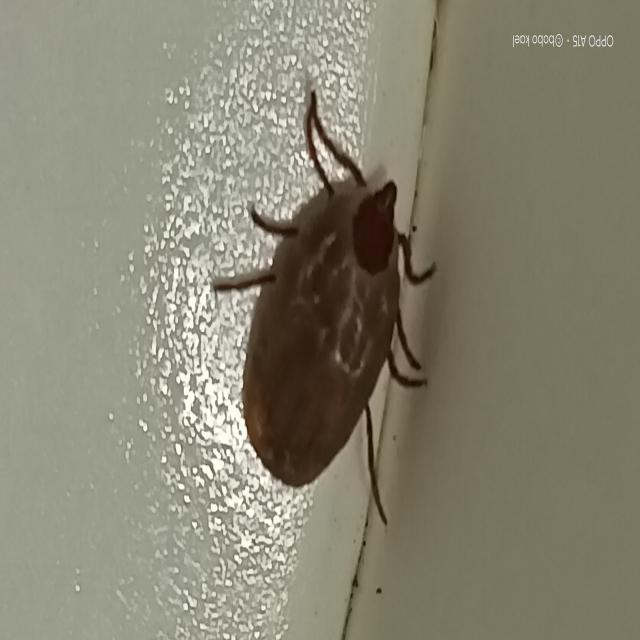Rhipicephalus Sanguineus-F-Fed: (212, 88, 437, 529)
